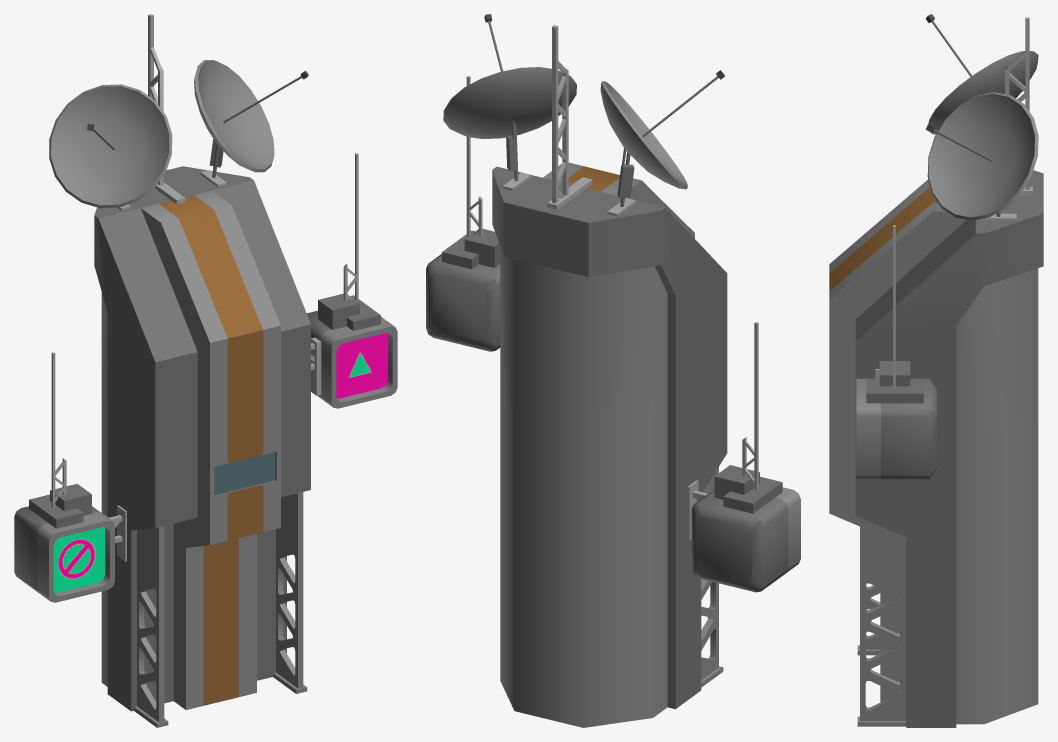
The model's file is Computer_Large.glb.
3 views of the same model, side by side, from view 1: azimuth 30°, elevation 25°; view 2: azimuth 150°, elevation 25°; view 3: azimuth 270°, elevation 25° (orthographic). The views are drawn at different scales.
Visible parts, largest first — view 1: Computer_Large; view 2: Computer_Large; view 3: Computer_Large.
Boxes of the visible parts, x1,y1,x2,y2 form: Computer_Large: [14, 14, 397, 727]; Computer_Large: [426, 14, 800, 727]; Computer_Large: [829, 14, 1043, 727].
Size of the model in its own units: 1.29 by 2.38 by 0.6898.
Materials: 7 (1 with a texture image).
